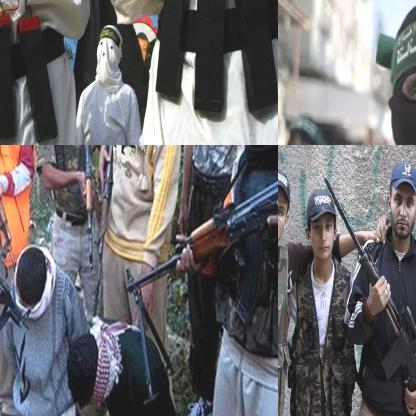rifle: (122, 174, 277, 399), (321, 169, 415, 415), (0, 149, 32, 336), (81, 145, 101, 276), (0, 145, 17, 271)
